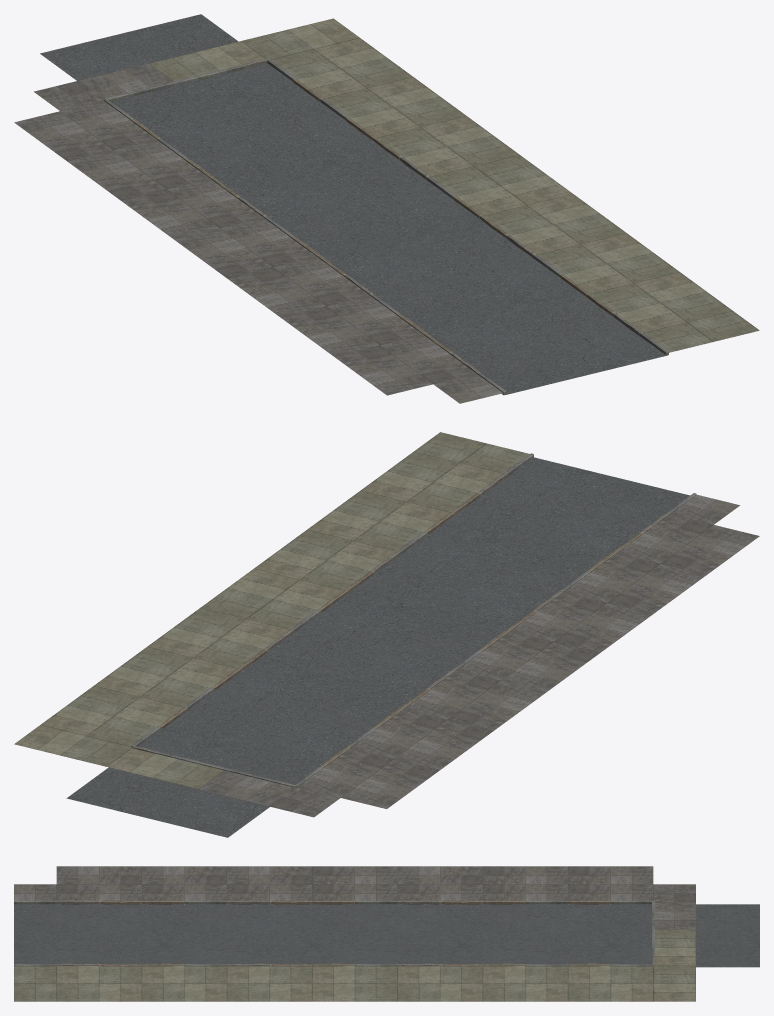
3 views of the same model, one above another, from view 1: azimuth 30°, elevation 25°; view 2: azimuth 150°, elevation 25°; view 3: azimuth 270°, elevation 25° (orthographic). The views are drawn at different scales.
Parts seen in each view (by area): view 1: Optimized_Scene_04_LOD0; view 2: Optimized_Scene_04_LOD0; view 3: Optimized_Scene_04_LOD0.
Boxes of the visible parts, x1,y1,x2,y2 form: Optimized_Scene_04_LOD0: [14, 14, 759, 403]; Optimized_Scene_04_LOD0: [14, 432, 759, 837]; Optimized_Scene_04_LOD0: [14, 866, 759, 1001].
Size of what is drawn, in the model's own units: 1500 by 19.08 by 3500.
